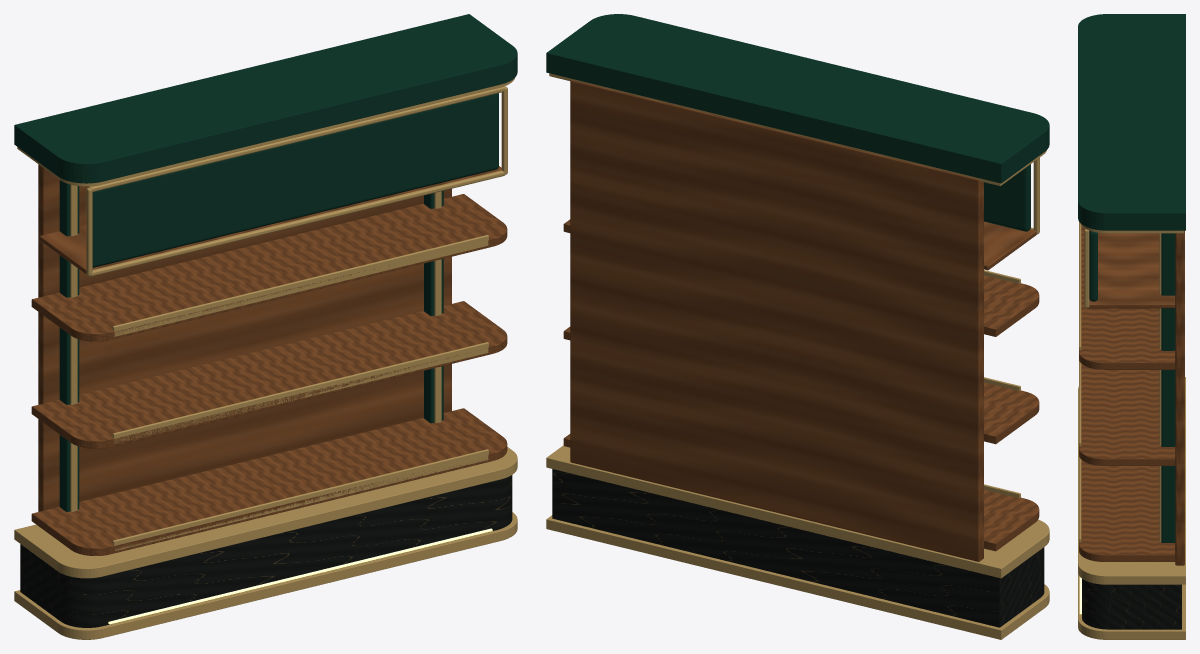
The picture shows the model from 3 angles, left to right: view 1: azimuth 30°, elevation 25°; view 2: azimuth 150°, elevation 25°; view 3: azimuth 270°, elevation 25°; orthographic projection. The views are drawn at different scales.
Parts seen in each view (by area): view 1: cabinet_back, cabinet_crown, brand_header_panel, shelf_2, cabinet_stone_base, shelf_1, shelf_3, trim_base_top, trim_base_plinth, price_rail_3, price_rail_2, price_rail_1 (+9 smaller); view 2: cabinet_back, cabinet_crown, cabinet_stone_base, trim_base_top, trim_base_plinth, shelf_1, shelf_2, shelf_3, brand_header_panel, brand_header_light_canopy, trim_crown_lip; view 3: cabinet_crown, shelf_2, shelf_1, shelf_3, brand_header_light_canopy, cabinet_stone_base, cabinet_right_rear_post, cabinet_back, trim_base_top, trim_base_plinth, trim_right_post, brand_header_panel (+5 smaller).
Part boxes in pixels (box(x1,y1,x2,y2)): cabinet_back: box(38, 164, 451, 511); cabinet_crown: box(14, 14, 517, 183); brand_header_panel: box(92, 93, 498, 267); shelf_2: box(31, 301, 507, 448); cabinet_stone_base: box(20, 475, 512, 627); shelf_1: box(31, 408, 507, 555); shelf_3: box(31, 194, 507, 341); trim_base_top: box(14, 447, 517, 578); trim_base_plinth: box(14, 512, 517, 639); price_rail_3: box(112, 235, 488, 336); price_rail_2: box(112, 342, 488, 443); price_rail_1: box(112, 449, 488, 550); cabinet_back: box(570, 80, 983, 561); cabinet_crown: box(546, 14, 1049, 183); cabinet_stone_base: box(552, 469, 1044, 627); trim_base_top: box(546, 445, 1049, 578); trim_base_plinth: box(546, 515, 1049, 639); shelf_1: box(563, 434, 1039, 551); shelf_2: box(563, 327, 1039, 444); shelf_3: box(563, 219, 1039, 336); brand_header_panel: box(984, 164, 1030, 231); brand_header_light_canopy: box(984, 221, 1036, 270); trim_crown_lip: box(549, 73, 1046, 186); cabinet_crown: box(1078, 14, 1185, 230); shelf_2: box(1079, 364, 1175, 465); shelf_1: box(1079, 460, 1175, 561); shelf_3: box(1079, 225, 1175, 369); brand_header_light_canopy: box(1087, 232, 1175, 308); cabinet_stone_base: box(1082, 579, 1181, 629); cabinet_right_rear_post: box(1161, 233, 1175, 542); cabinet_back: box(1175, 230, 1184, 565); trim_base_top: box(1078, 377, 1185, 584); trim_base_plinth: box(1078, 573, 1185, 639); trim_right_post: box(1159, 233, 1161, 541); brand_header_panel: box(1089, 230, 1097, 301).
Bounding box in the file's own units: 2.4 × 2.4 × 0.55.
Materials: 5 (2 with a texture image).
